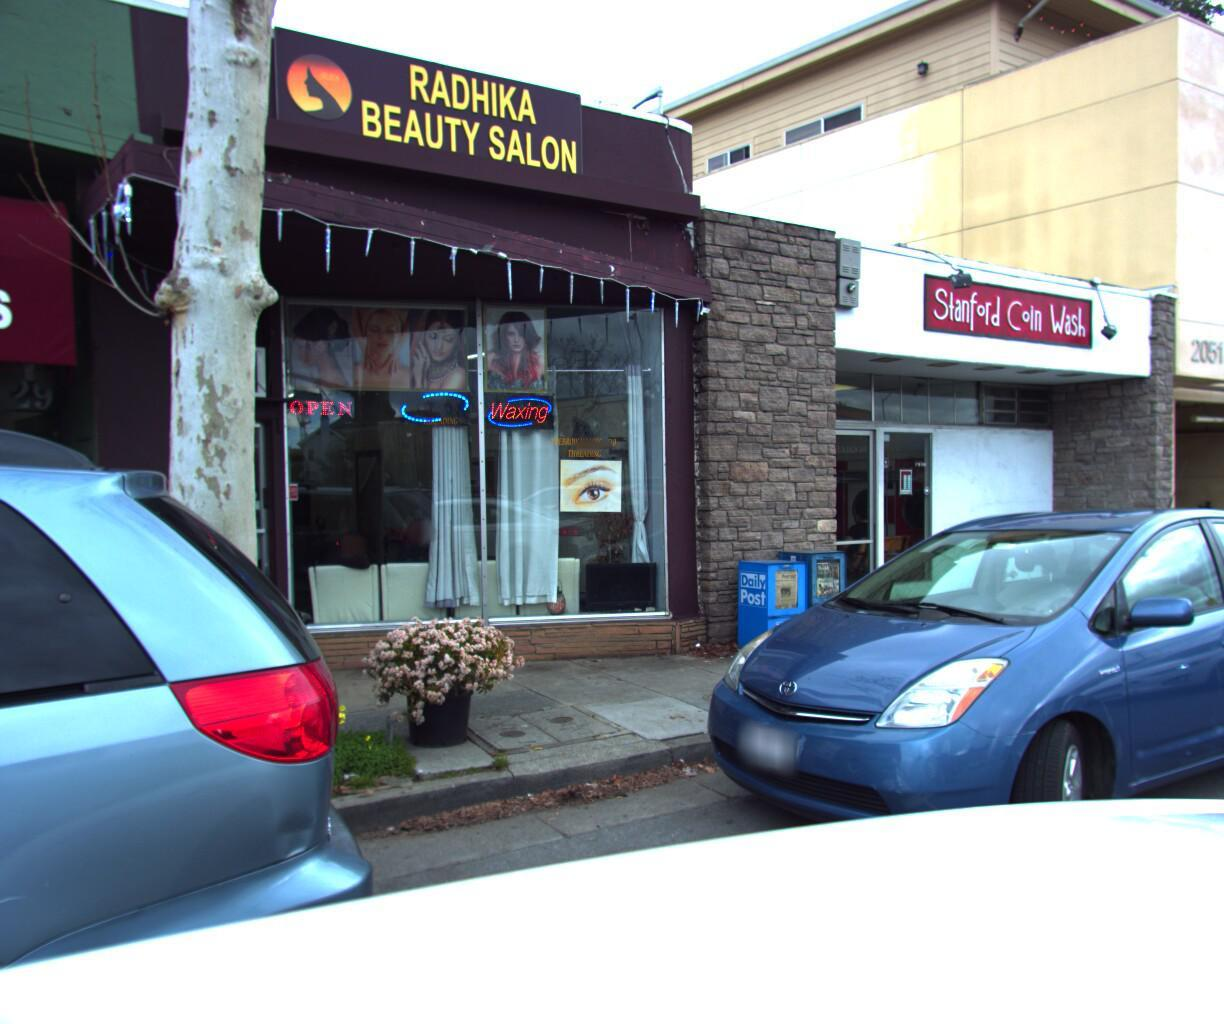car: (651, 492, 1224, 964)
